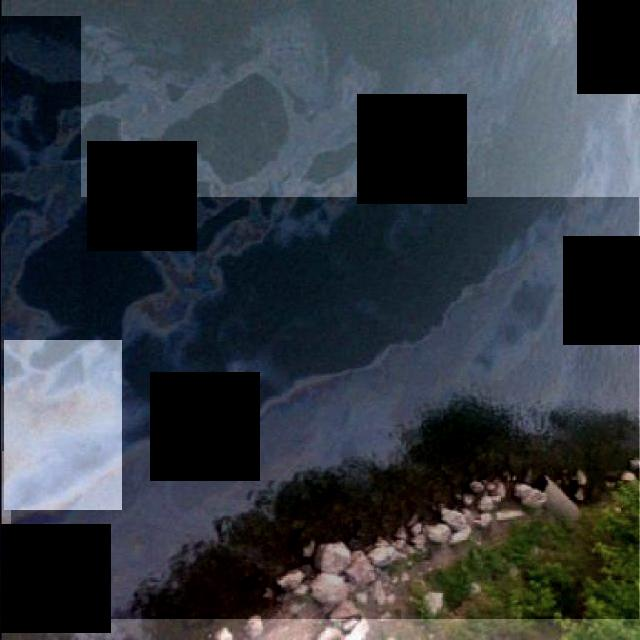oil spill: (11, 198, 639, 619), (1, 17, 81, 451), (4, 340, 122, 510)
